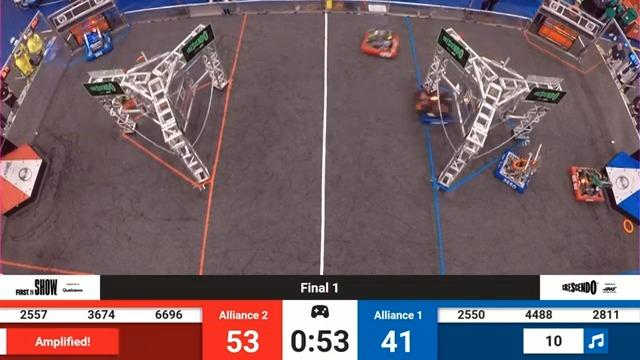robot: (490, 130, 549, 197), (569, 159, 613, 209), (414, 86, 462, 126), (113, 71, 150, 120), (78, 21, 118, 66), (359, 26, 404, 62)
